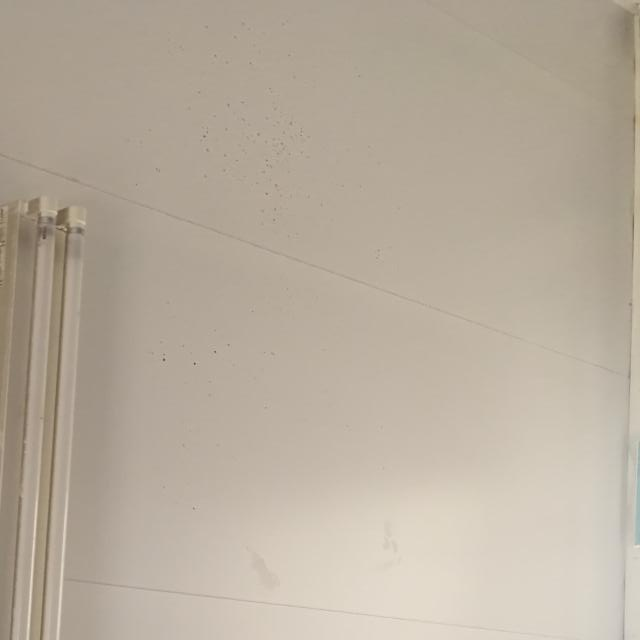fluorescent tube: (0, 182, 134, 640)
